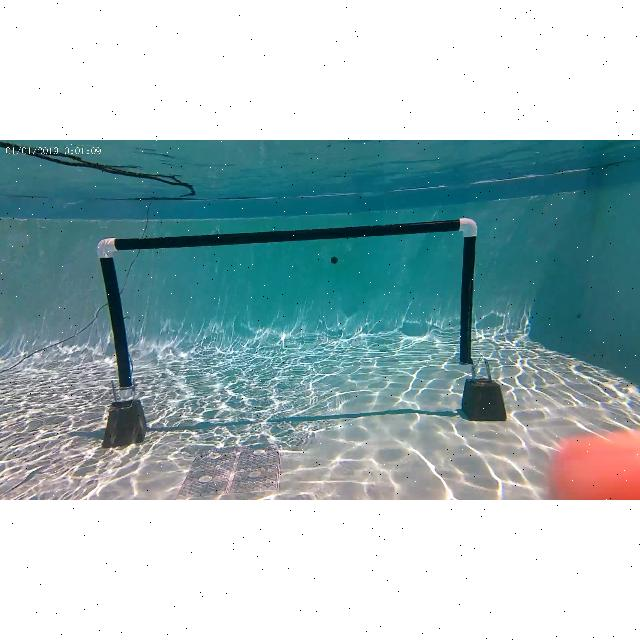prequal gate: (97, 218, 476, 398)
prequal gate leg l: (443, 214, 513, 426), (92, 231, 152, 451)
